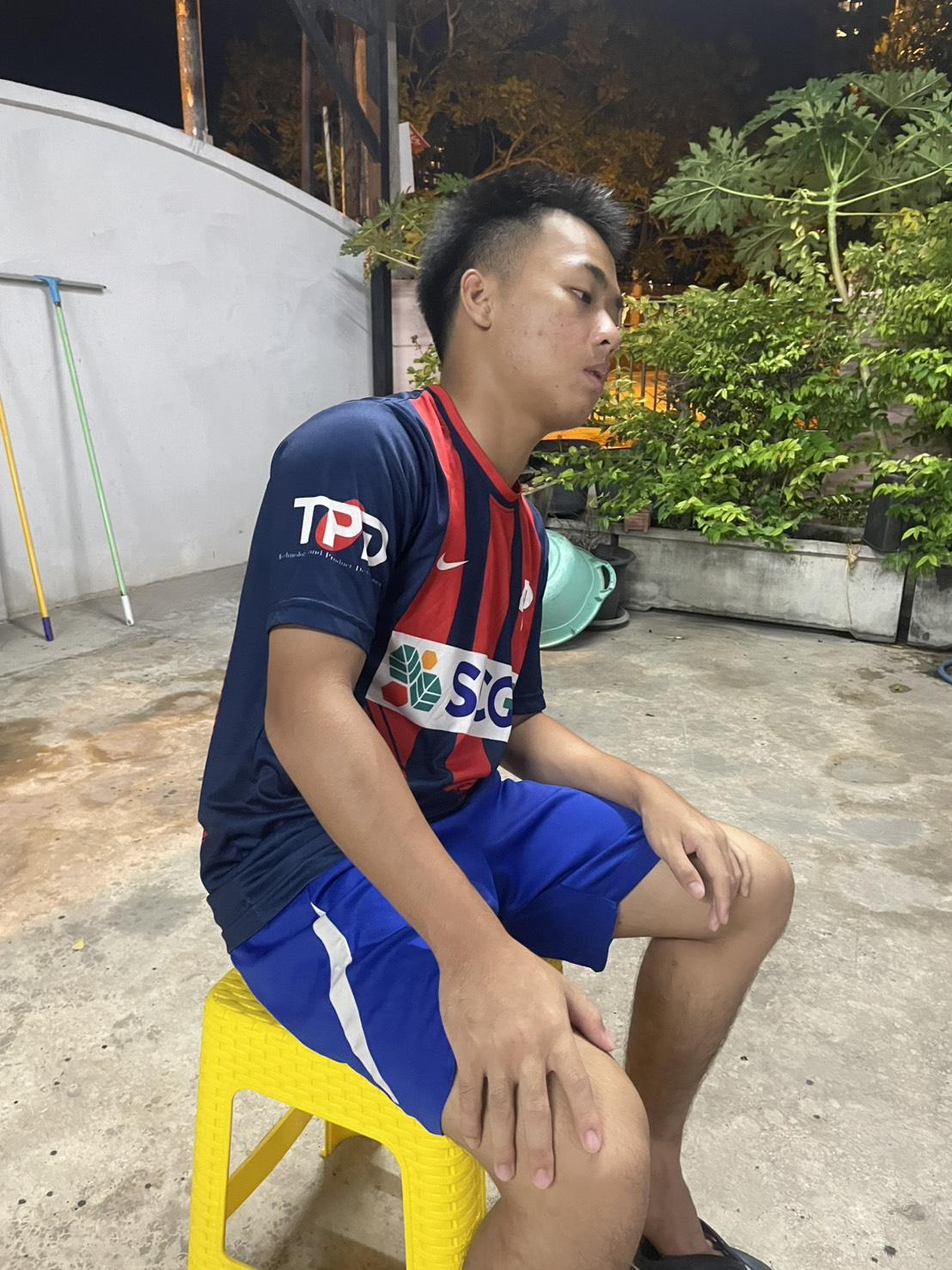BadPosture: (198, 169, 656, 948)
